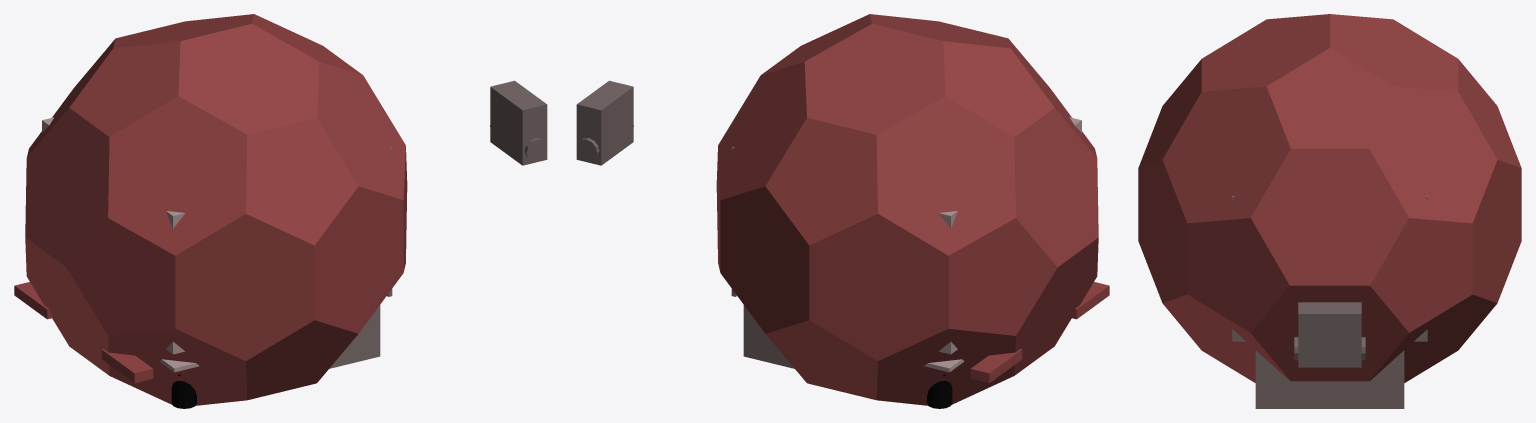
Rendered from _head-neck-p.glb.
3 views of the same model, side by side, from view 1: azimuth 30°, elevation 25°; view 2: azimuth 150°, elevation 25°; view 3: azimuth 270°, elevation 25° (orthographic). The views are drawn at different scales.
Size of the model in its own units: 0.2567 by 0.1803 by 0.1803.
